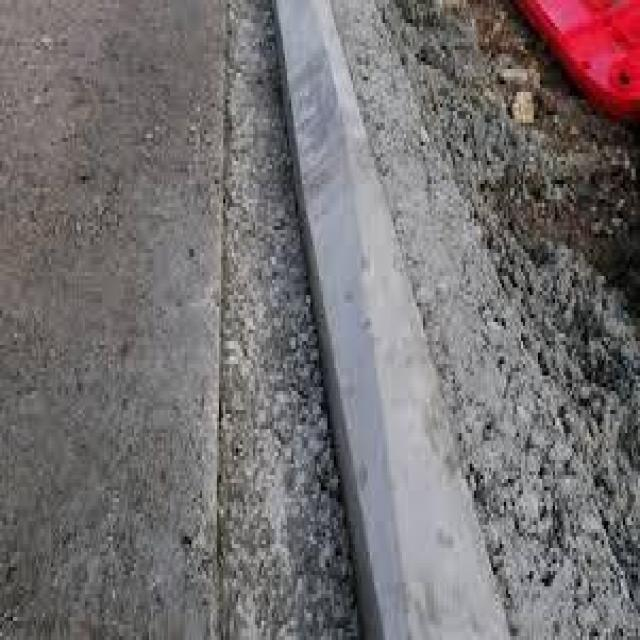curb: (278, 11, 508, 640)
